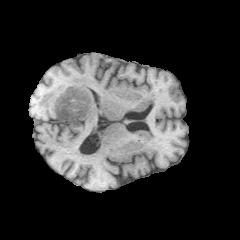glioma: (39, 78, 96, 122)
